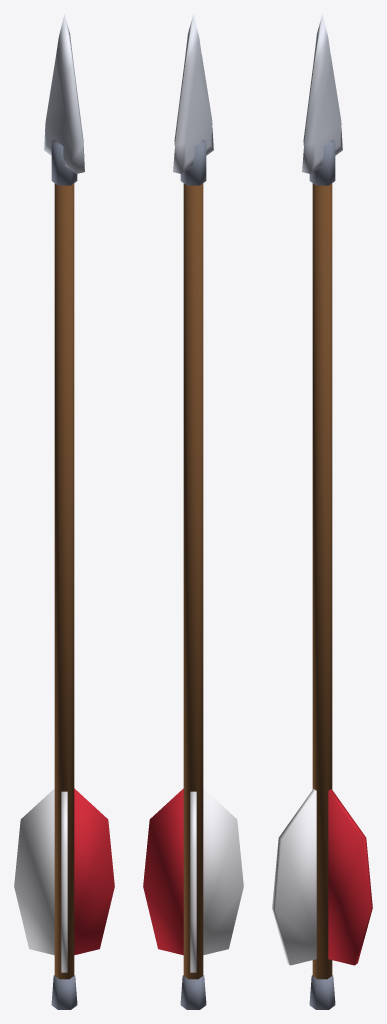
Rendered from arrow.glb.
3 renders of one model, left to right at view 1: azimuth 30°, elevation 25°; view 2: azimuth 150°, elevation 25°; view 3: azimuth 330°, elevation 25°, orthographic.
Visible parts, largest first — view 1: arrow_wood, arrow_feather, arrow_gem, arrow_steel; view 2: arrow_wood, arrow_feather, arrow_gem, arrow_steel; view 3: arrow_wood, arrow_feather, arrow_gem, arrow_steel.
Part boxes in pixels (<box>): arrow_wood: <box>54,183,74,979</box>; arrow_feather: <box>14,788,67,972</box>; arrow_gem: <box>74,788,114,955</box>; arrow_steel: <box>44,14,84,1009</box>; arrow_wood: <box>183,183,203,979</box>; arrow_feather: <box>190,788,243,972</box>; arrow_gem: <box>143,788,183,955</box>; arrow_steel: <box>173,14,213,1009</box>; arrow_wood: <box>312,183,332,979</box>; arrow_feather: <box>272,788,316,965</box>; arrow_gem: <box>328,788,372,965</box>; arrow_steel: <box>302,14,342,1009</box>.
Size of the model in its own units: 0.0806 by 1.01 by 0.0931.
